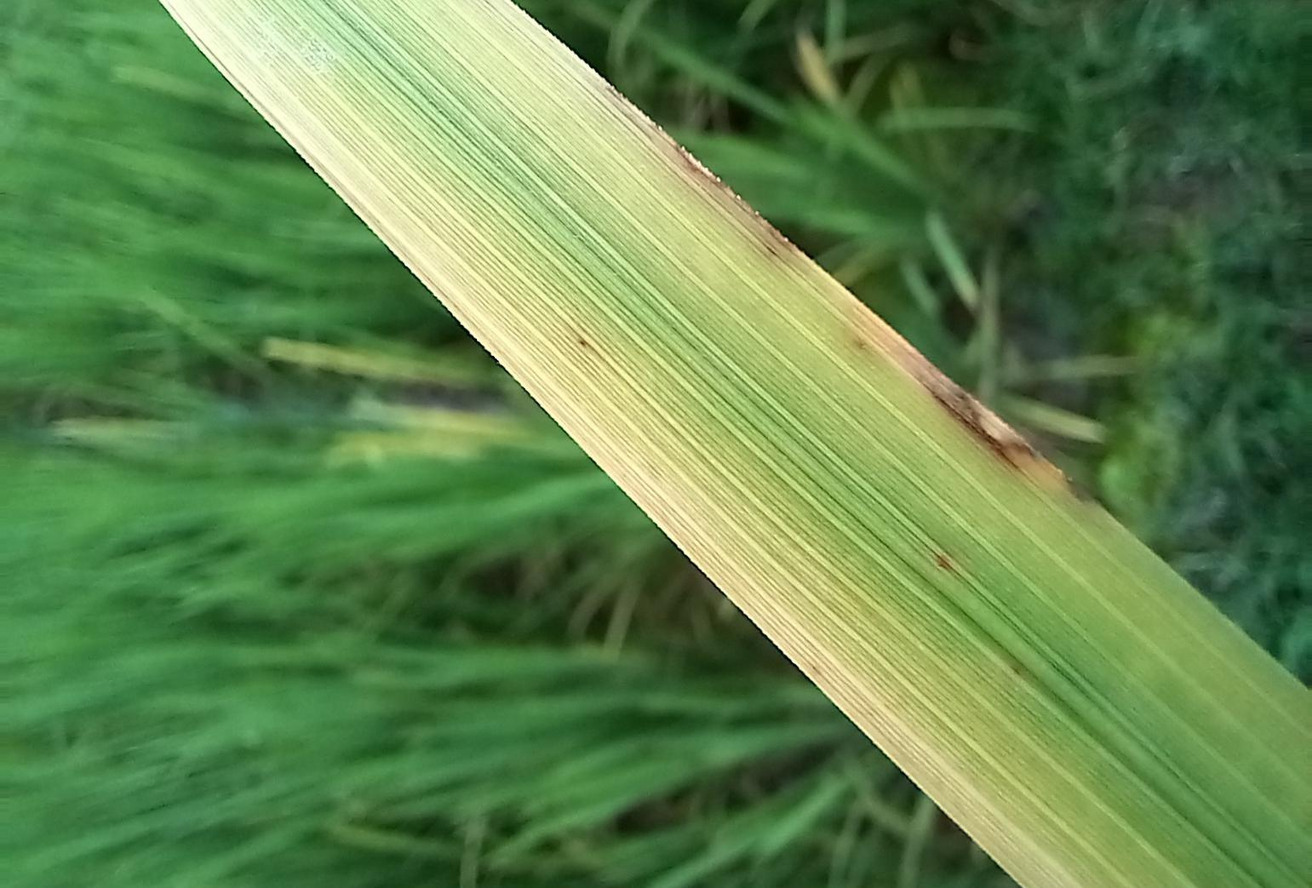LEAF BLAST: (849, 302, 1074, 492)
